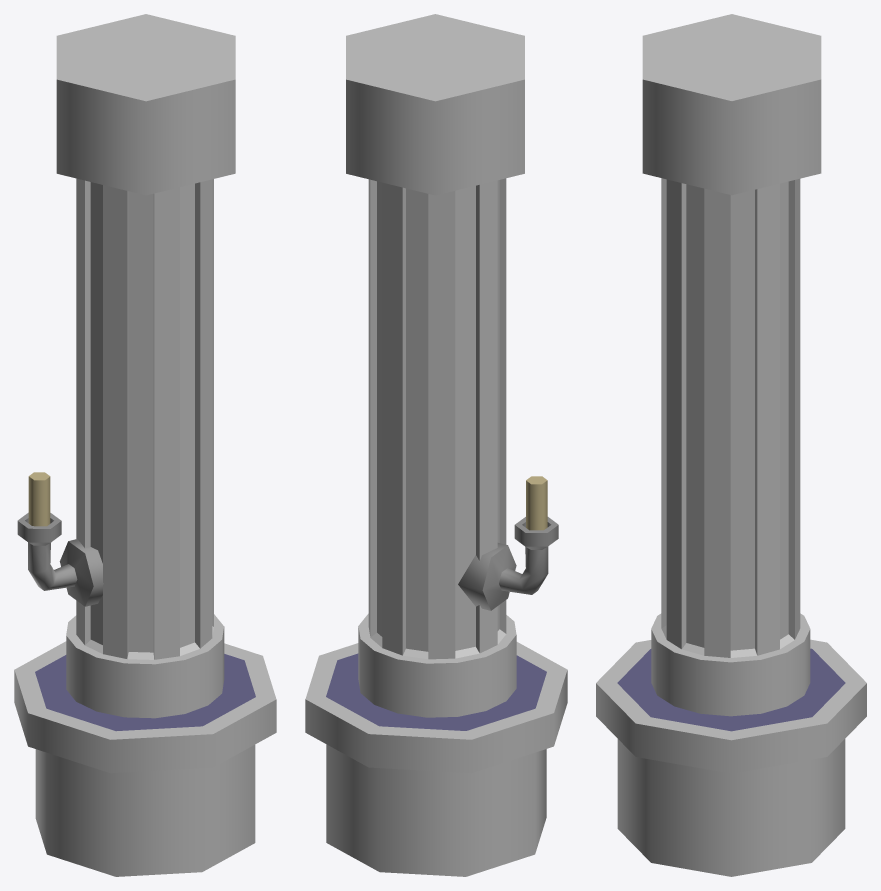
Rendered from Dest_Palace_Pillar.FBX.
The picture shows the model from 3 angles, left to right: view 1: azimuth 30°, elevation 25°; view 2: azimuth 150°, elevation 25°; view 3: azimuth 270°, elevation 25°; orthographic projection.
Visible parts, largest first — view 1: Cylinder001; view 2: Cylinder001; view 3: Cylinder001.
Boxes of the visible parts, box(x1,y1,x2,y2) form: Cylinder001: box(14, 14, 276, 876); Cylinder001: box(305, 14, 567, 876); Cylinder001: box(596, 14, 866, 876).
Size of the model in its own units: 130 by 405 by 129.
